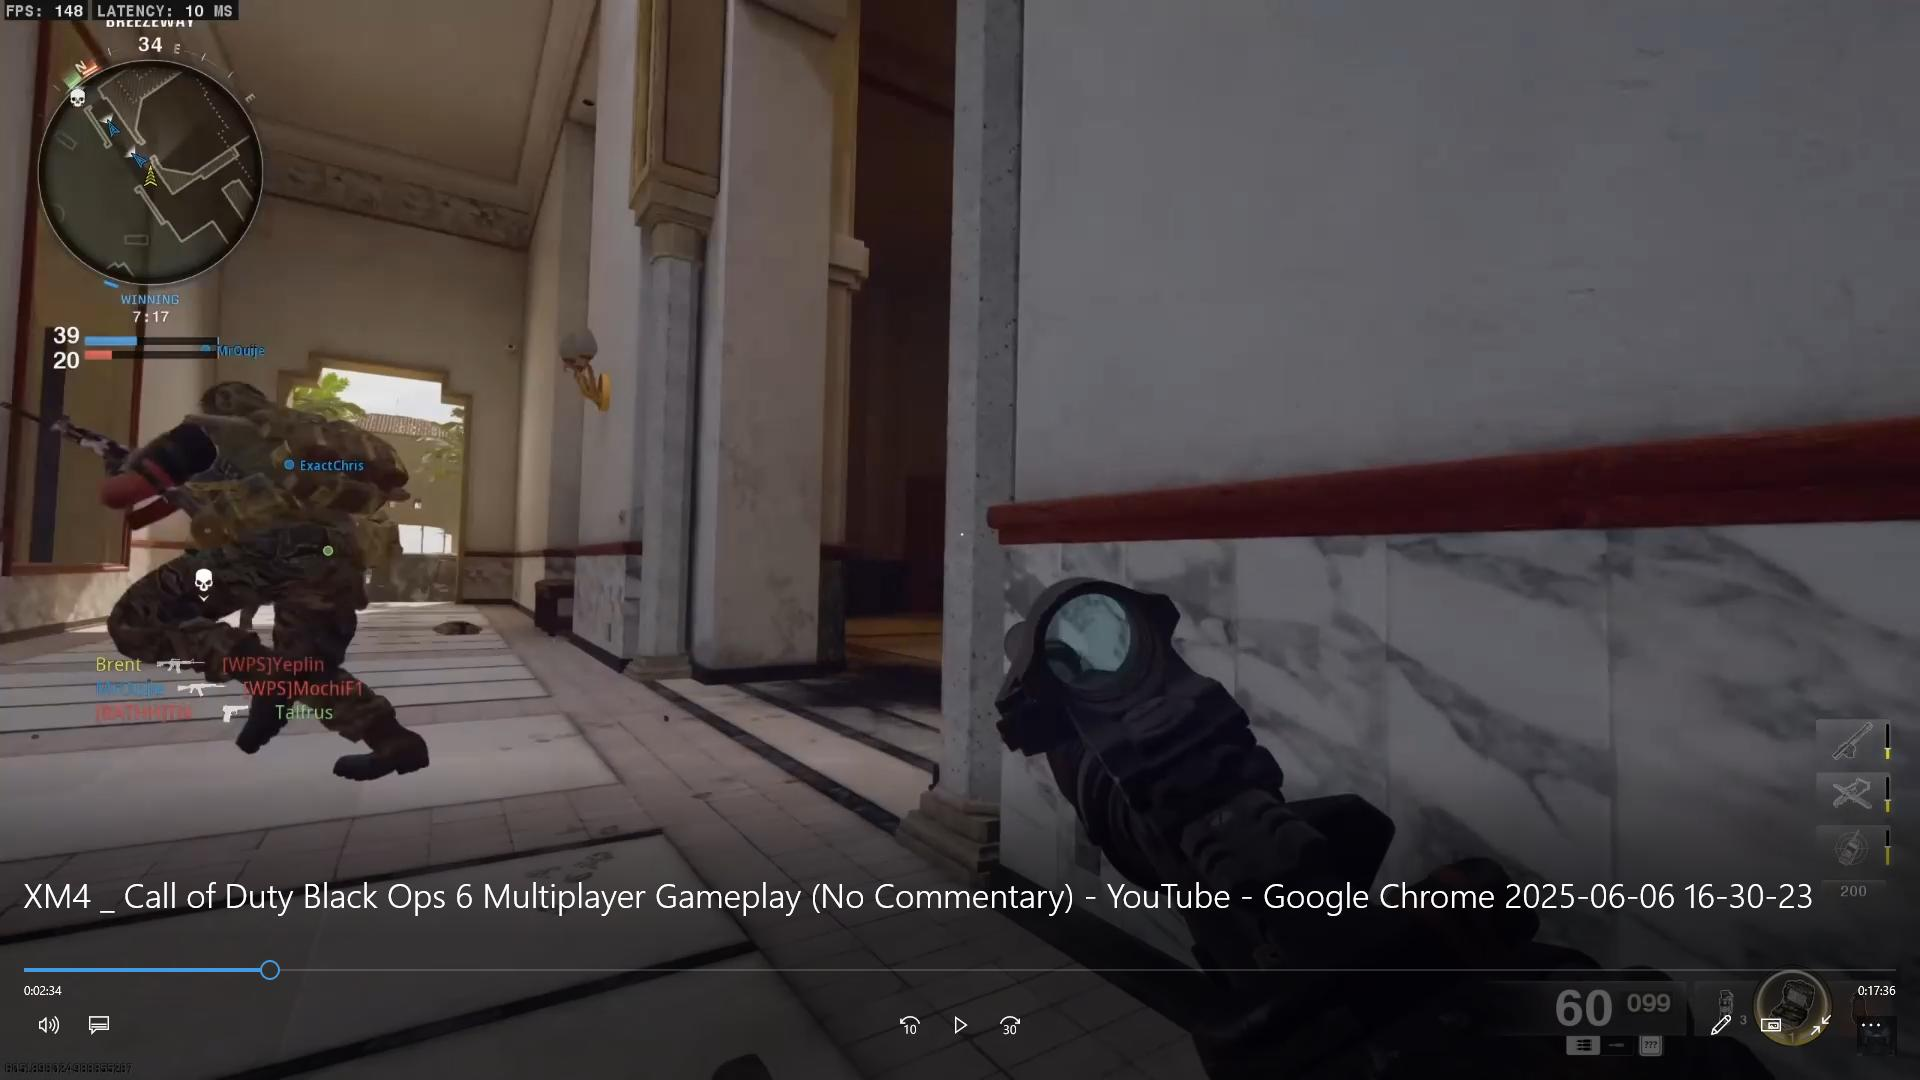Enemy: (115, 377, 413, 624)
